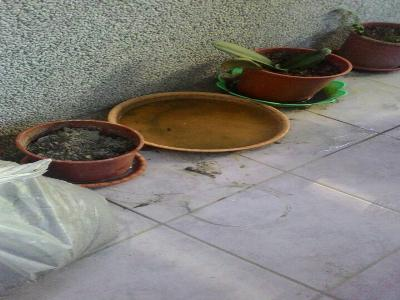bowl: (12, 119, 148, 179), (239, 39, 352, 110)
plastic_bag: (1, 162, 106, 271)
plate: (104, 87, 292, 153), (214, 74, 348, 109), (75, 152, 146, 189)
